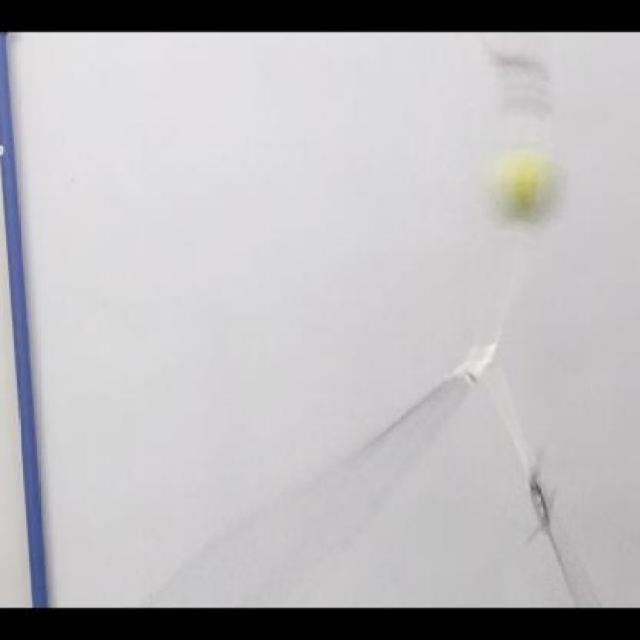baseball: (493, 145, 567, 223)
